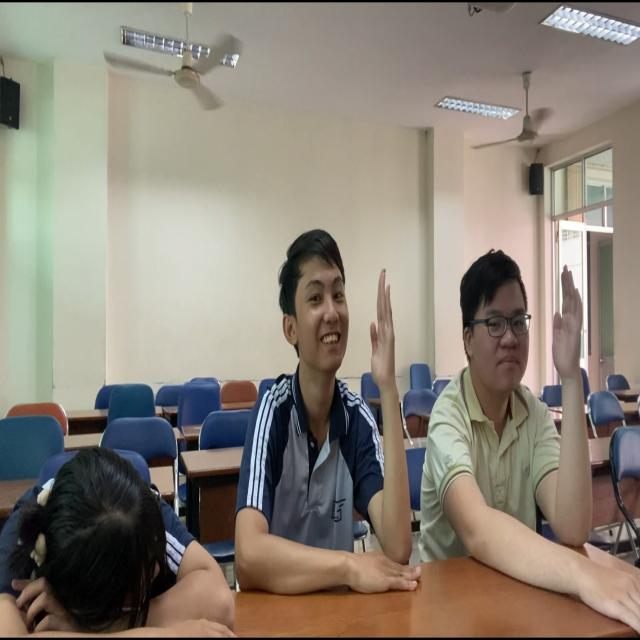raise_hand: (399, 226, 640, 603), (252, 223, 411, 612)
sleep: (4, 387, 242, 638)
